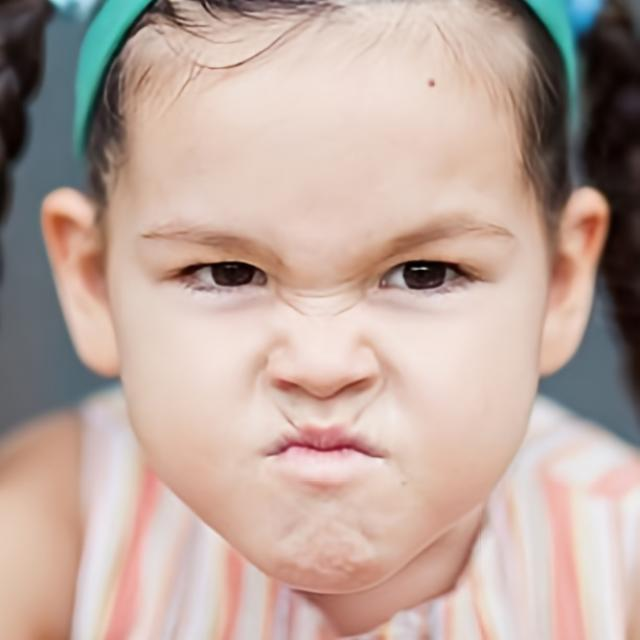anger: (120, 56, 540, 584)
